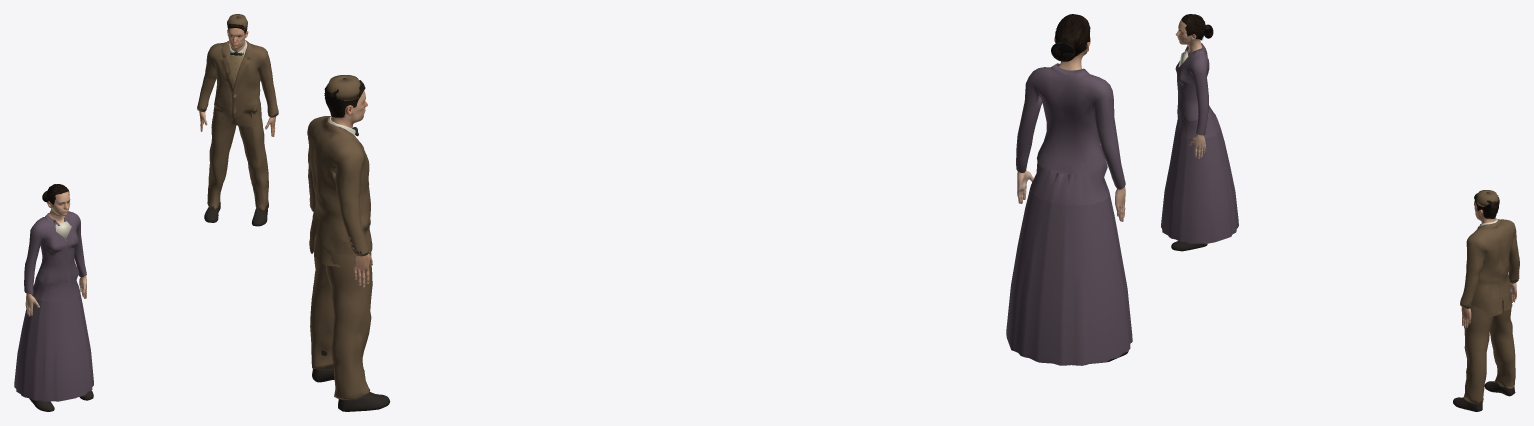
The model's file is manufactory-characters.glb.
3 views of the same model, side by side, from view 1: azimuth 30°, elevation 25°; view 2: azimuth 150°, elevation 25°; view 3: azimuth 270°, elevation 25° (orthographic). The views are drawn at different scales.
Parts seen in each view (by area): view 1: factory-worker_root_Coat, factory-worker_upper_Coat, factory-assistant_upper_Coat, factory-assistant_root_Coat, factory-worker_head_Skin, factory-assistant_root_Boot, factory-assistant_head_Skin, factory-worker_upper_Skin, factory-worker_root_Boot, factory-worker_head_Hair, factory-assistant_upper_Skin; view 2: factory-worker_root_Coat, factory-worker_upper_Coat, factory-assistant_root_Coat, factory-assistant_upper_Coat, factory-assistant_root_Boot, factory-worker_head_Hair; view 3: factory-worker_root_Coat, factory-assistant_root_Coat, factory-assistant_upper_Coat, factory-worker_upper_Coat, factory-assistant_root_Boot, factory-worker_head_Hair, factory-worker_head_Skin.
Part boxes in pixels (bbox=[...]): factory-worker_root_Coat: bbox=[14, 290, 93, 401]; factory-worker_upper_Coat: bbox=[24, 211, 86, 305]; factory-assistant_upper_Coat: bbox=[197, 40, 278, 119]; factory-assistant_root_Coat: bbox=[197, 107, 278, 211]; factory-worker_head_Skin: bbox=[47, 191, 70, 221]; factory-assistant_root_Boot: bbox=[204, 205, 267, 226]; factory-assistant_head_Skin: bbox=[227, 28, 248, 51]; factory-worker_upper_Skin: bbox=[25, 219, 86, 316]; factory-worker_root_Boot: bbox=[29, 390, 93, 411]; factory-worker_head_Hair: bbox=[46, 184, 69, 204]; factory-assistant_upper_Skin: bbox=[199, 49, 275, 136]; factory-worker_root_Coat: bbox=[1006, 188, 1132, 365]; factory-worker_upper_Coat: bbox=[1016, 63, 1125, 206]; factory-assistant_root_Coat: bbox=[309, 203, 372, 399]; factory-assistant_upper_Coat: bbox=[307, 116, 370, 254]; factory-assistant_root_Boot: bbox=[312, 350, 390, 411]; factory-worker_head_Hair: bbox=[1055, 14, 1090, 57]; factory-worker_root_Coat: bbox=[1161, 128, 1238, 243]; factory-assistant_root_Coat: bbox=[1460, 279, 1518, 403]; factory-assistant_upper_Coat: bbox=[1460, 219, 1519, 305]; factory-worker_upper_Coat: bbox=[1175, 43, 1220, 138]; factory-assistant_root_Boot: bbox=[1453, 374, 1515, 411]; factory-worker_head_Hair: bbox=[1181, 14, 1205, 40]; factory-worker_head_Skin: bbox=[1175, 19, 1202, 52].
Size of the model in its own units: 3.58 by 1.89 by 2.76.
Materials: 18 (9 with a texture image).
